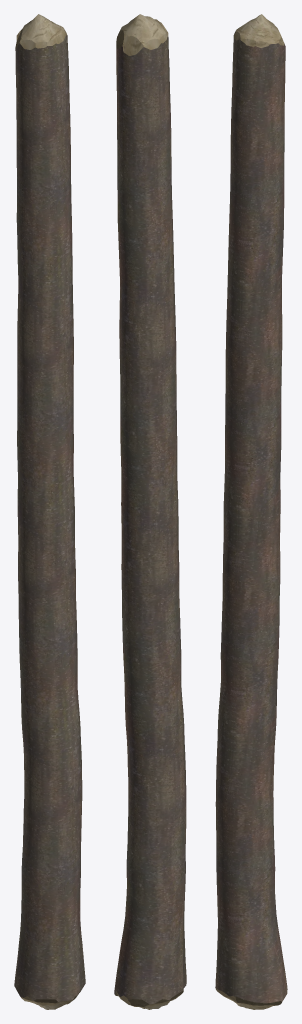
3 views of the same model, side by side, from view 1: azimuth 90°, elevation 25°; view 2: azimuth 150°, elevation 25°; view 3: azimuth 330°, elevation 25° (orthographic).
Visible parts, largest first — view 1: SM_BM_Ash_Tree_03_full_LOD0; view 2: SM_BM_Ash_Tree_03_full_LOD0; view 3: SM_BM_Ash_Tree_03_full_LOD0.
Part boxes in pixels (x1=…): SM_BM_Ash_Tree_03_full_LOD0: x1=14, y1=14, x2=85, y2=1009; SM_BM_Ash_Tree_03_full_LOD0: x1=114, y1=14, x2=186, y2=1009; SM_BM_Ash_Tree_03_full_LOD0: x1=215, y1=14, x2=287, y2=1009.
Bounding box in the file's own units: 0.5919 × 8.86 × 0.5784.
Materials: 1 (1 with a texture image).
